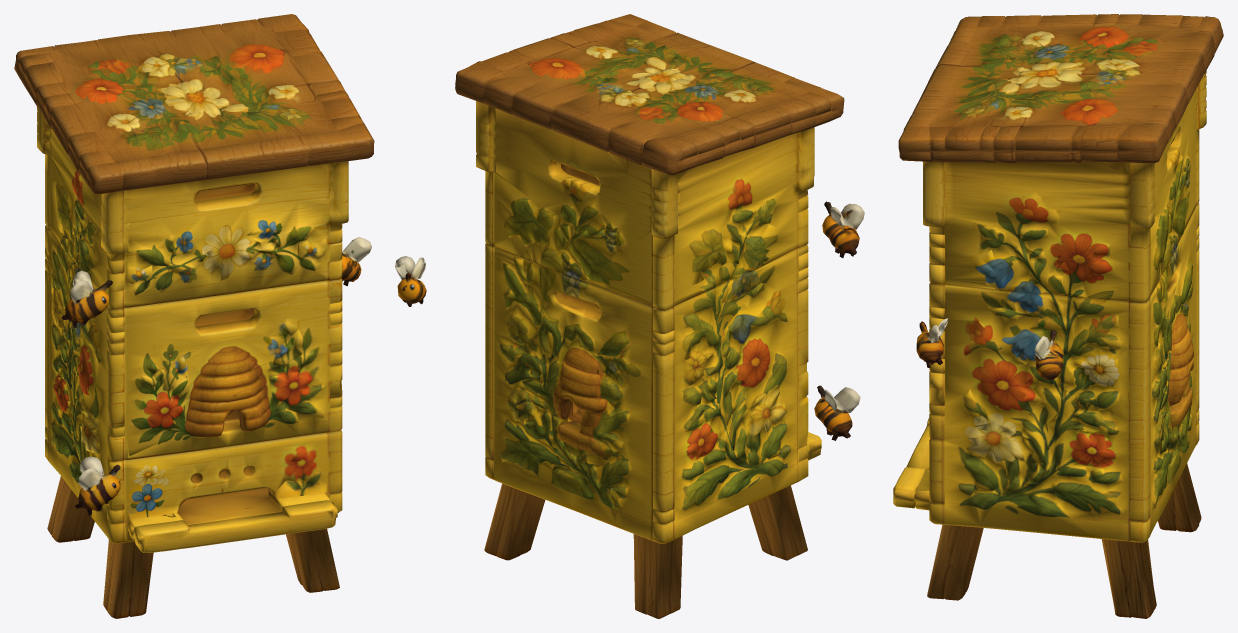
The model's file is beehive.glb.
3 renders of one model, left to right at view 1: azimuth 30°, elevation 25°; view 2: azimuth 150°, elevation 25°; view 3: azimuth 270°, elevation 25°, orthographic. The views are drawn at different scales.
Parts seen in each view (by area): view 1: tripo_node_952dc7a7-a68e-4c94-99cb-846ca2498718; view 2: tripo_node_952dc7a7-a68e-4c94-99cb-846ca2498718; view 3: tripo_node_952dc7a7-a68e-4c94-99cb-846ca2498718.
Boxes of the visible parts, x1,y1,x2,y2 form: tripo_node_952dc7a7-a68e-4c94-99cb-846ca2498718: [14, 14, 426, 618]; tripo_node_952dc7a7-a68e-4c94-99cb-846ca2498718: [455, 14, 864, 618]; tripo_node_952dc7a7-a68e-4c94-99cb-846ca2498718: [893, 14, 1223, 618].
Bounding box in the file's own units: 0.728 × 0.9764 × 0.5942.
Materials: 1 (1 with a texture image).
